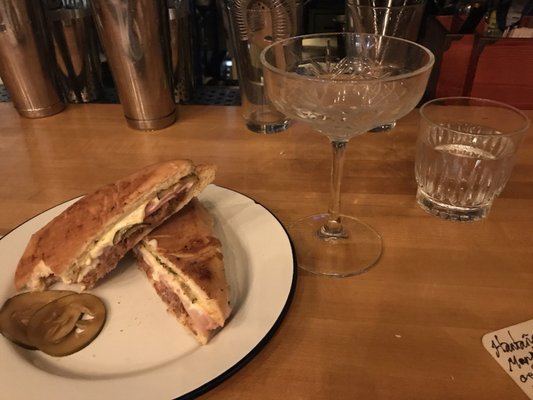soup: (13, 160, 217, 298), (134, 197, 233, 346)
